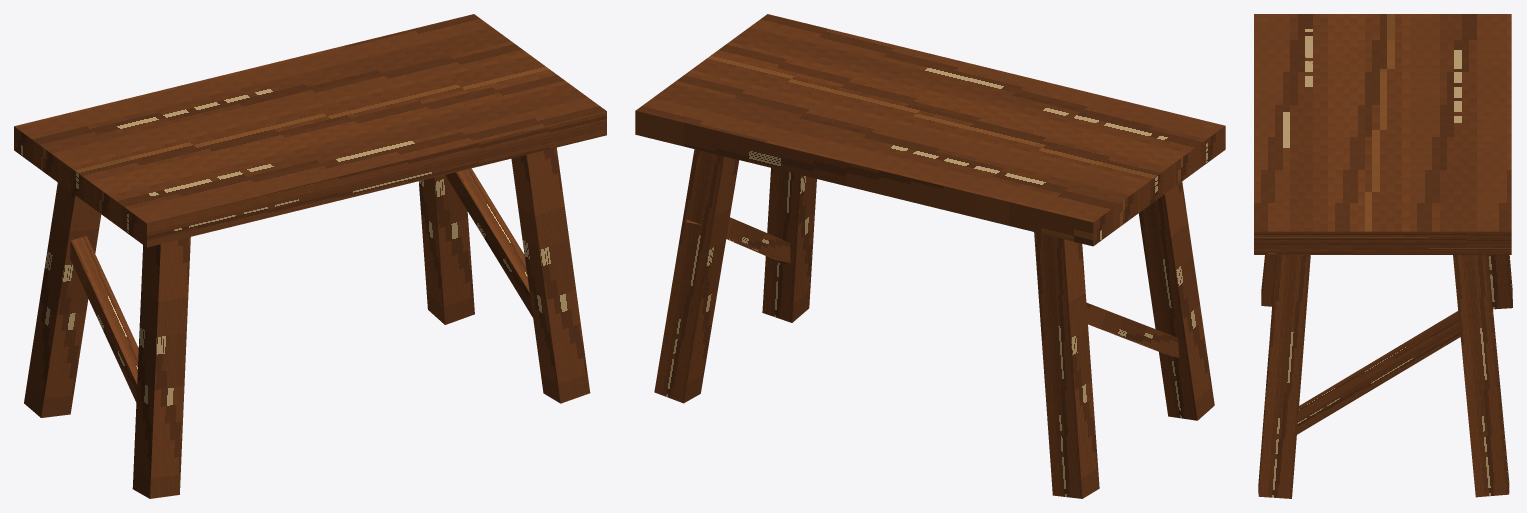
File: retro_wood_table.glb
3 renders of one model, left to right at view 1: azimuth 30°, elevation 25°; view 2: azimuth 150°, elevation 25°; view 3: azimuth 270°, elevation 25°, orthographic. The views are drawn at different scales.
Visible parts, largest first — view 1: RetroWoodTable; view 2: RetroWoodTable; view 3: RetroWoodTable.
Part boxes in pixels (bbox=[...]): RetroWoodTable: bbox=[14, 14, 606, 498]; RetroWoodTable: bbox=[635, 14, 1225, 498]; RetroWoodTable: bbox=[1254, 14, 1512, 498].
Size of the model in its own units: 2 by 1.19 by 1.
1 material, 1 textured.
